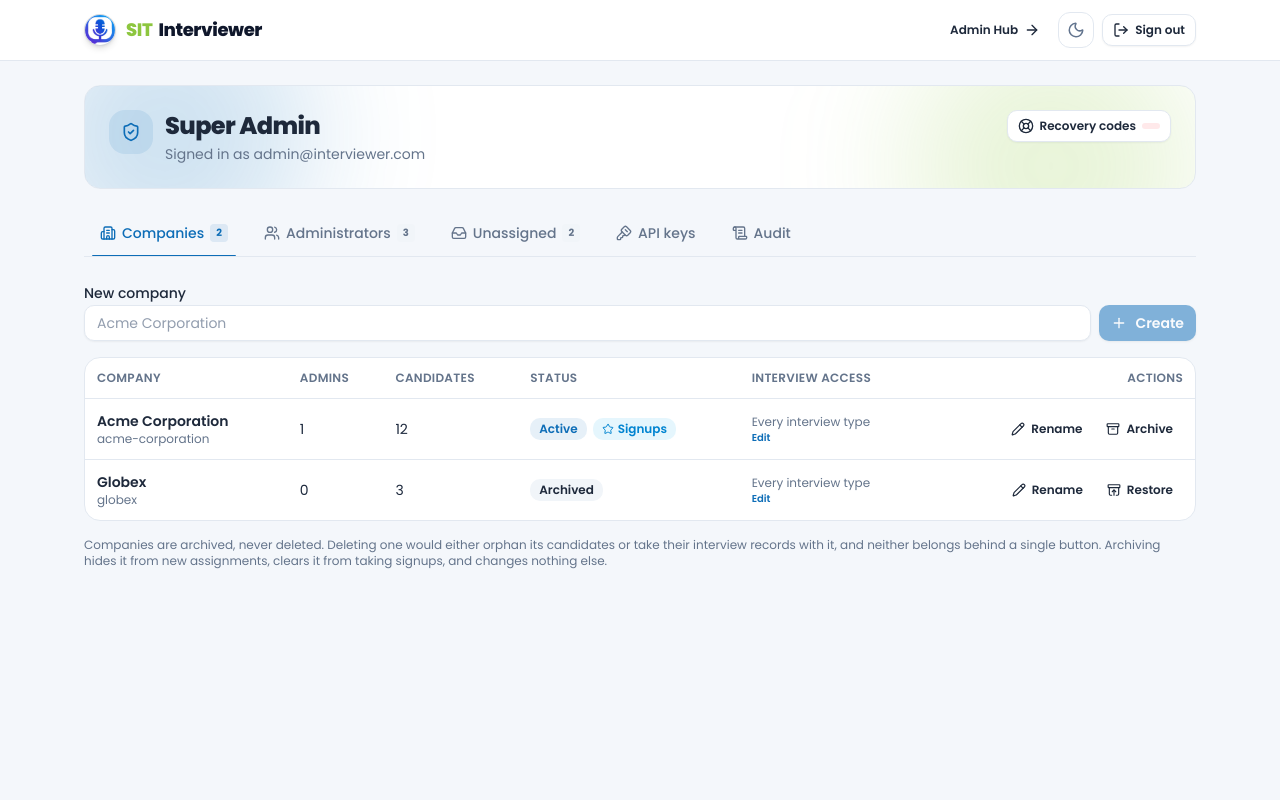
Test case: SuperAdminPortal › shows a super admin as holding every company, not as holding none
Expected: the text "Acme Corporation" is shown, left=97, top=410, right=228, bottom=430
What coordinates should you click on to do the following:
click the button "Administrators 3"
I would click on:
 (339, 234)
Its box is left=248, top=213, right=431, bottom=256.
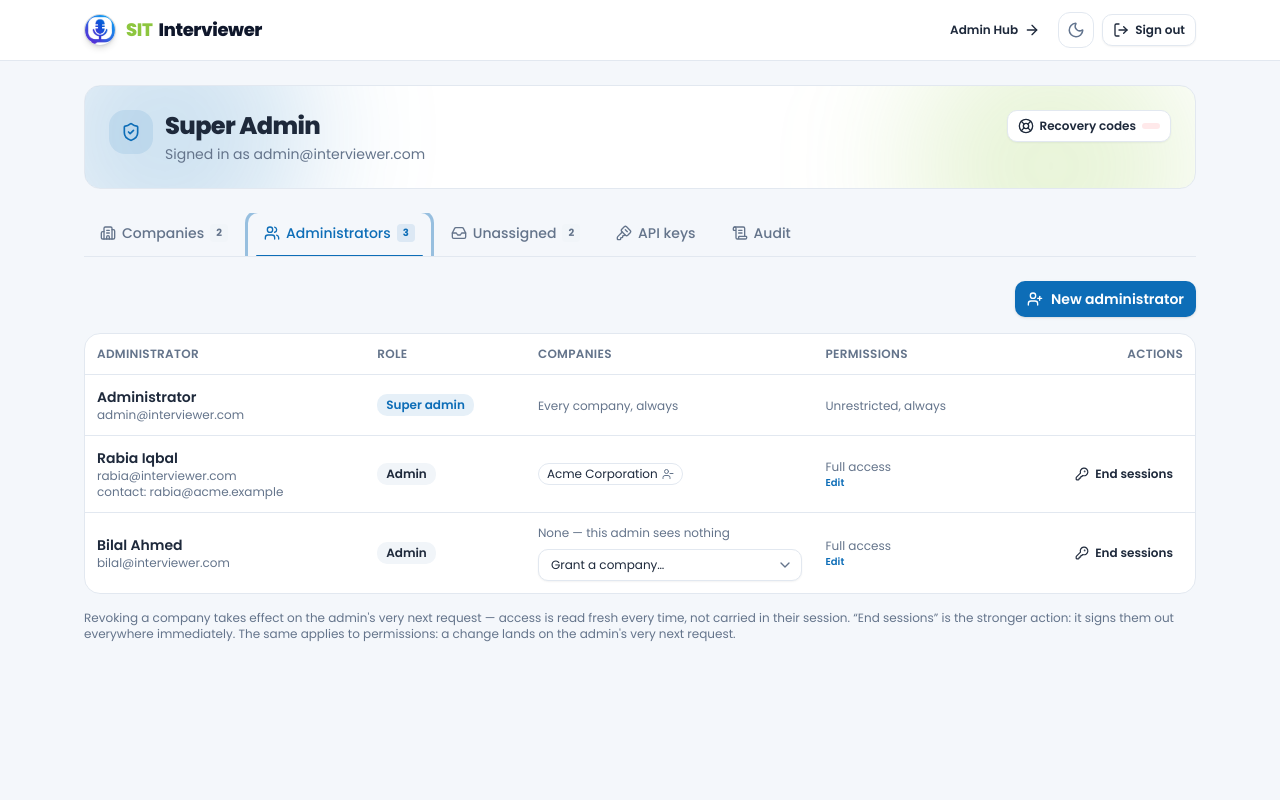
Expected: the text "Every company, always" is shown, left=538, top=396, right=678, bottom=414
